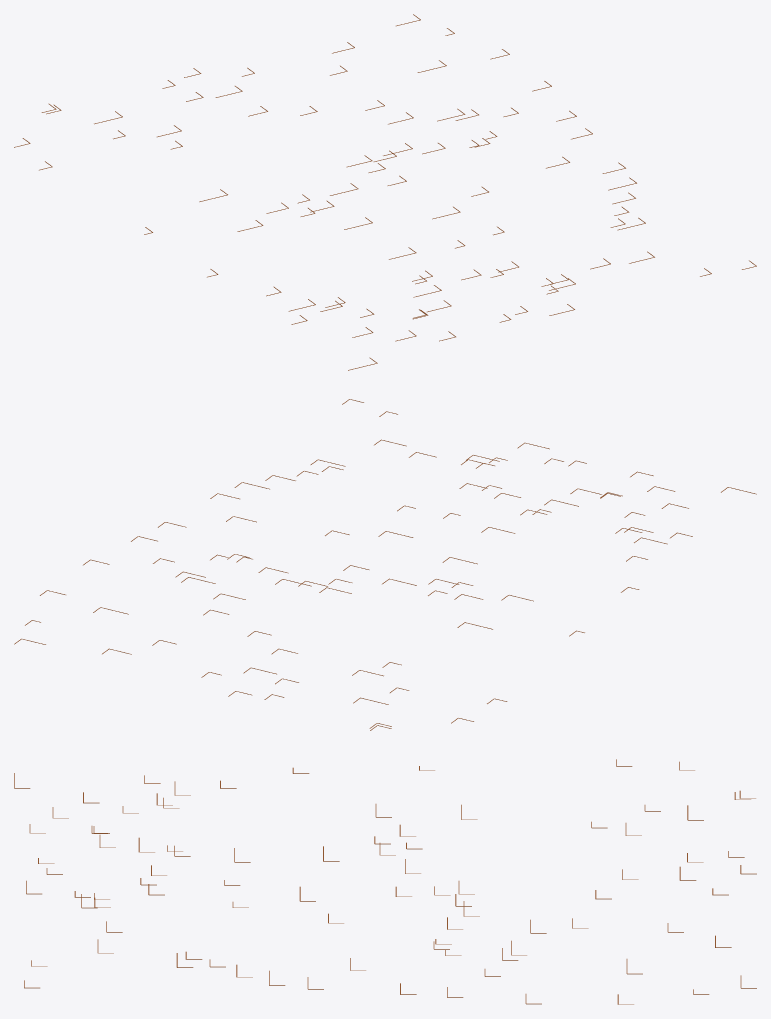
The picture shows the model from 3 angles, top to bottom: view 1: azimuth 30°, elevation 25°; view 2: azimuth 150°, elevation 25°; view 3: azimuth 270°, elevation 25°; orthographic projection. The views are drawn at different scales.
Visible parts, largest first — view 1: LAYER_02__Copper; view 2: LAYER_02__Copper; view 3: LAYER_02__Copper.
Part boxes in pixels (box(x1,y1,x2,y2)): LAYER_02__Copper: box(14, 14, 756, 370); LAYER_02__Copper: box(14, 399, 756, 730); LAYER_02__Copper: box(14, 759, 756, 1004).
Bounding box in the file's own units: 217 × 0.09 × 278.
